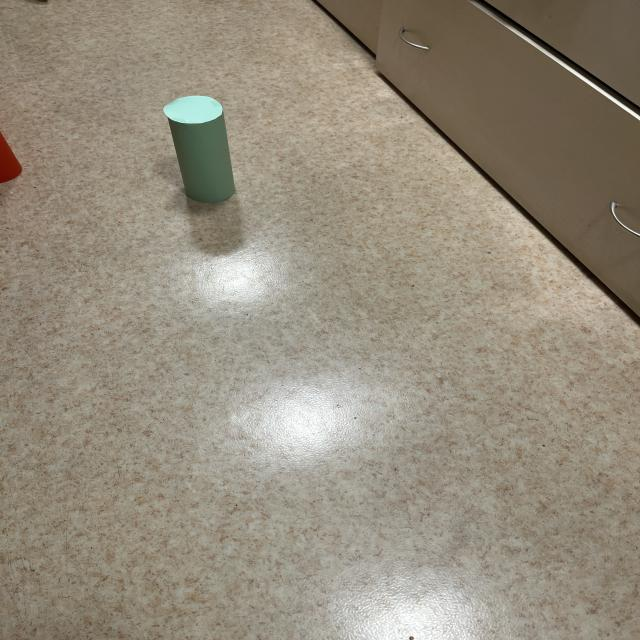meta: (163, 96, 235, 203)
